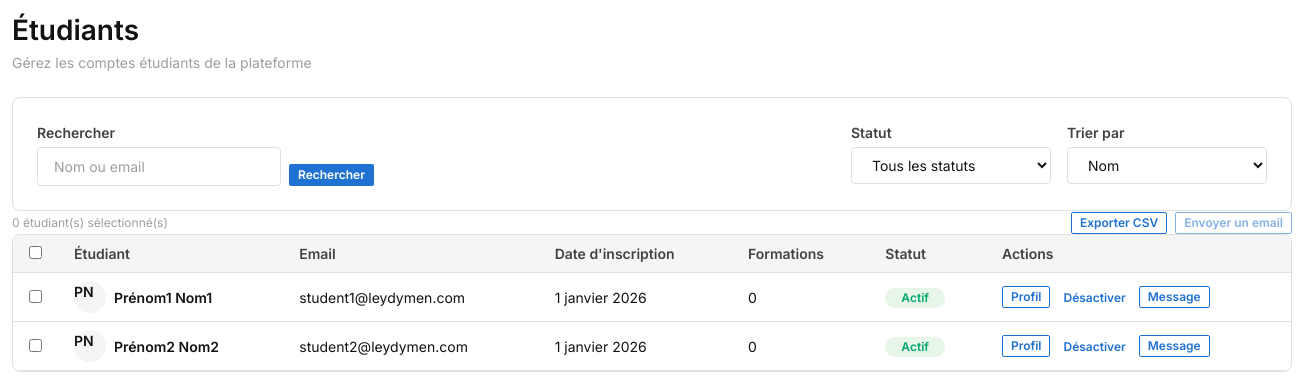
Test: StudentListComponent › should track the selected students and enable the email action
Click the checkbox named "Sélectionner Prénom1 Nom1" at [36, 296], box [29,290,42,303]
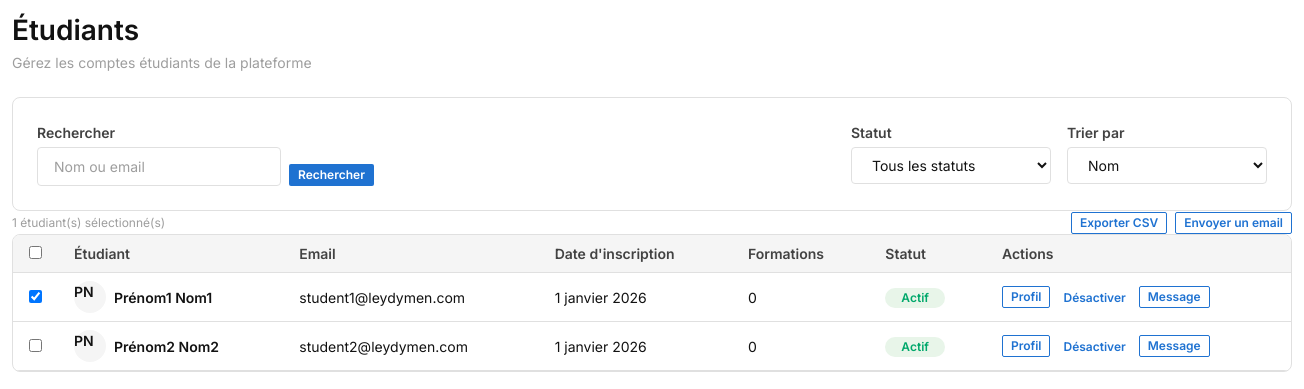
Expected: the text "1 étudiant(s) sélectionné(s)" is shown, [12,214,165,232]
Expected: the button "Envoyer un email" is enabled, [1175,212,1292,234]
